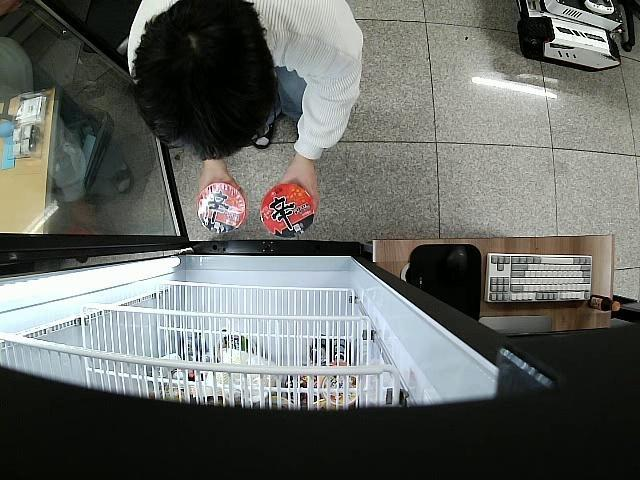01_ShinRamen_L: (260, 182, 316, 238), (196, 181, 247, 235)
